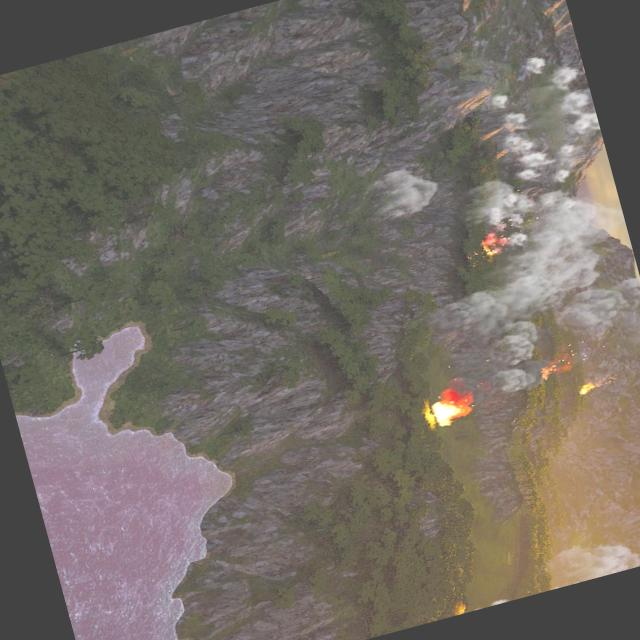fire: (428, 390, 472, 430), (534, 356, 576, 380), (574, 374, 616, 397), (477, 228, 507, 258), (452, 603, 467, 615)
smoke: (369, 44, 640, 412), (363, 157, 442, 225)
